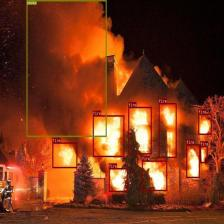fire: (93, 115, 124, 157), (128, 107, 152, 154), (158, 103, 176, 157), (142, 160, 167, 191), (52, 142, 77, 168), (108, 168, 128, 192), (186, 144, 200, 178), (198, 114, 212, 134), (200, 146, 207, 163)
smoke: (26, 0, 107, 137)
